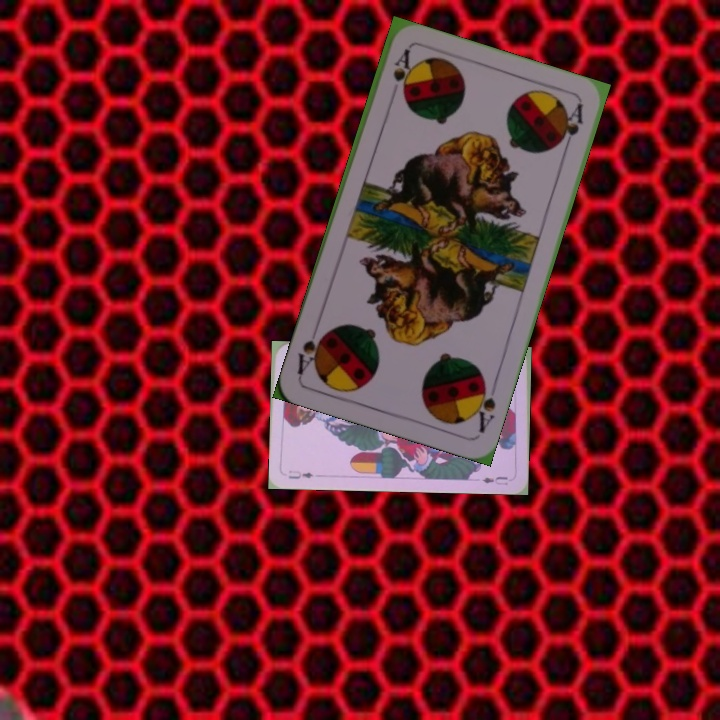EU: (284, 466, 316, 481)
SA: (468, 375, 498, 436), (389, 45, 413, 96)
